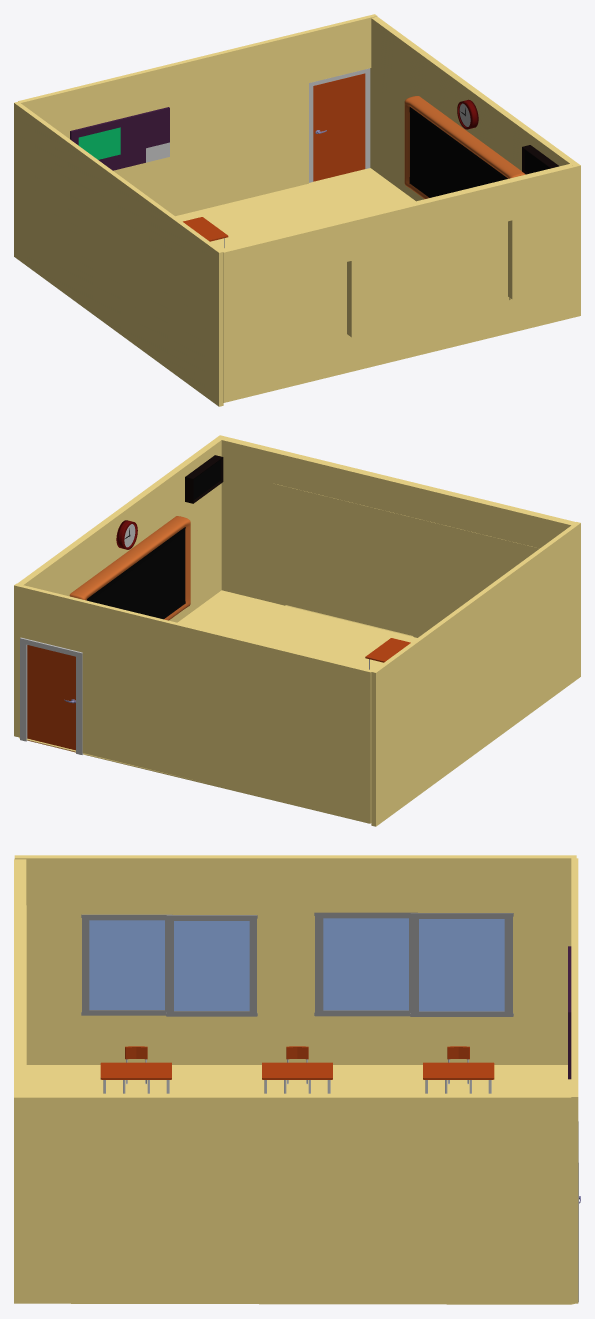
File: Class.glb
3 views of the same model, one above another, from view 1: azimuth 30°, elevation 25°; view 2: azimuth 150°, elevation 25°; view 3: azimuth 270°, elevation 25° (orthographic). The views are drawn at different scales.
Parts seen in each view (by area): view 1: Plane.001.1, Wall.11, Box003.18, Cube.2, Door.8, Cube.006.5, DoorFrame.7, Cube.002.4, Chair002.14, Clock.3; view 2: Plane.001.1, Wall.11, Box003.18, Cube.2, Door.8, DoorFrame.7, Cube.002.4, Chair.12, Clock.3; view 3: Plane.001.1, Wall.11, Window.R.003.22, Window.L.003.20, Window.R002.21, Window.L002.23, Chair003.15, Chair005.17, Chair004.16.
Part boxes in pixels (x1=…): Plane.001.1: x1=18, y1=14, x2=580, y2=402; Wall.11: x1=14, y1=101, x2=223, y2=406; Box003.18: x1=237, y1=221, x2=507, y2=364; Cube.2: x1=404, y1=96, x2=525, y2=198; Door.8: x1=313, y1=73, x2=365, y2=181; Cube.006.5: x1=70, y1=107, x2=169, y2=170; DoorFrame.7: x1=309, y1=68, x2=370, y2=182; Cube.002.4: x1=522, y1=145, x2=559, y2=174; Chair002.14: x1=183, y1=217, x2=228, y2=247; Clock.3: x1=457, y1=99, x2=478, y2=129; Plane.001.1: x1=14, y1=435, x2=575, y2=823; Wall.11: x1=371, y1=522, x2=580, y2=826; Box003.18: x1=272, y1=483, x2=539, y2=637; Cube.2: x1=69, y1=516, x2=190, y2=620; Door.8: x1=27, y1=645, x2=75, y2=752; DoorFrame.7: x1=20, y1=637, x2=83, y2=754; Cube.002.4: x1=185, y1=455, x2=223, y2=503; Chair.12: x1=365, y1=638, x2=410, y2=669; Clock.3: x1=116, y1=520, x2=137, y2=549; Plane.001.1: x1=14, y1=858, x2=578, y2=1304; Wall.11: x1=14, y1=855, x2=576, y2=1064; Window.R.003.22: x1=410, y1=913, x2=513, y2=1016; Window.L.003.20: x1=314, y1=912, x2=417, y2=1016; Window.R002.21: x1=166, y1=915, x2=257, y2=1016; Window.L002.23: x1=81, y1=914, x2=172, y2=1015; Chair003.15: x1=100, y1=1046, x2=171, y2=1093; Chair005.17: x1=423, y1=1046, x2=494, y2=1093; Chair004.16: x1=262, y1=1046, x2=332, y2=1093.
Size of the model in its own units: 1598 by 652 by 1585.
